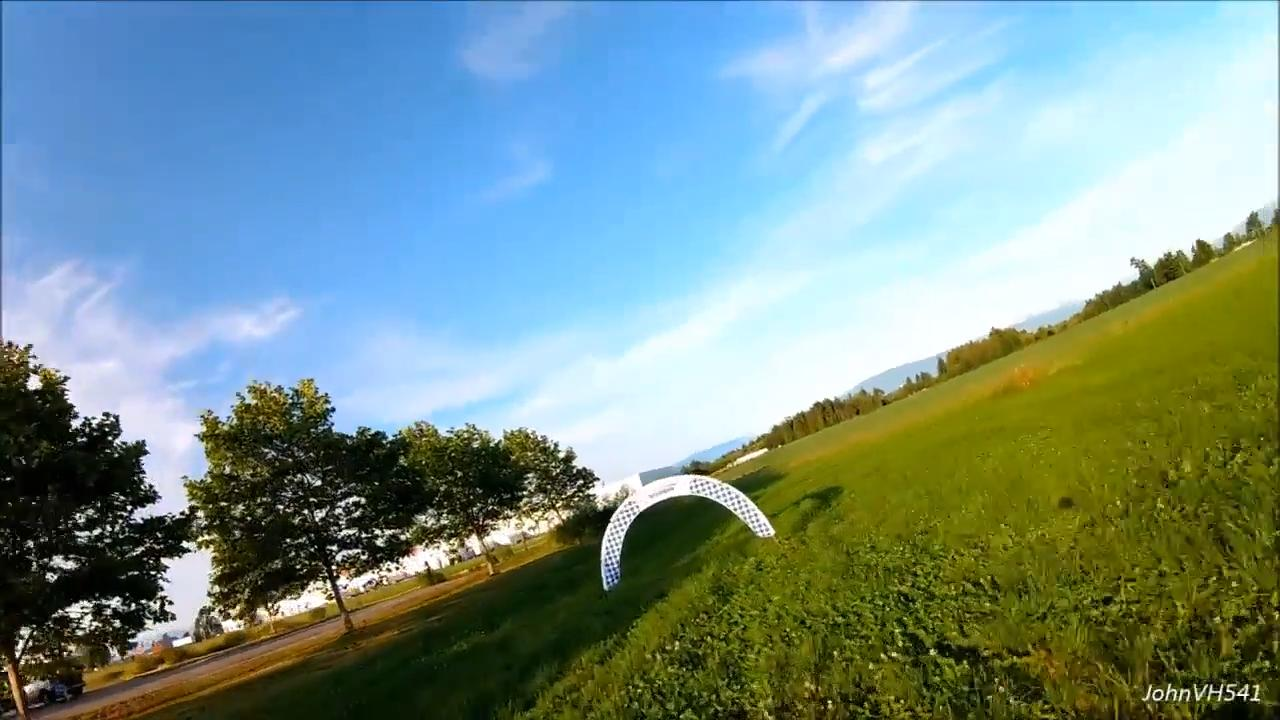gate: (600, 473, 780, 595)
